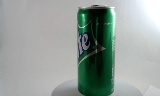sprite: (71, 3, 108, 95)
